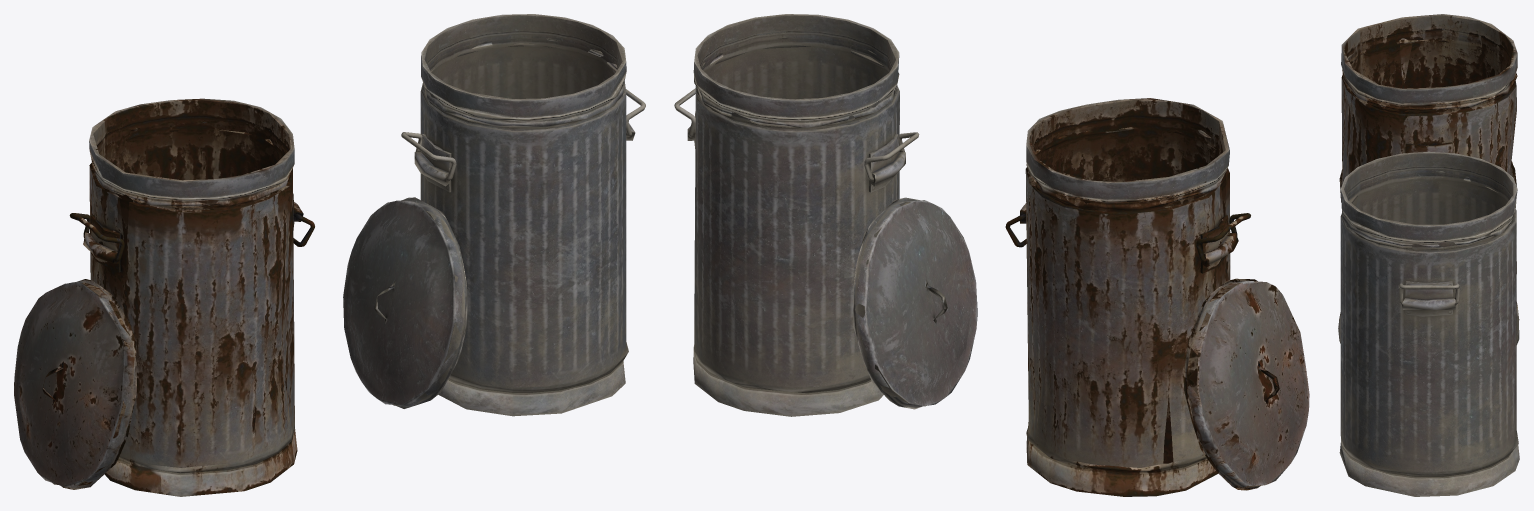
File: metal_trash_can.glb
3 views of the same model, side by side, from view 1: azimuth 30°, elevation 25°; view 2: azimuth 150°, elevation 25°; view 3: azimuth 270°, elevation 25° (orthographic). The views are drawn at different scales.
Parts seen in each view (by area): view 1: metal_trash_can, metal_trash_can_rust, metal_trash_can_lid, metal_trash_can_rust_lid; view 2: metal_trash_can, metal_trash_can_rust, metal_trash_can_lid, metal_trash_can_rust_lid; view 3: metal_trash_can, metal_trash_can_rust, metal_trash_can_handle_right.
Boxes of the visible parts, <box> form: metal_trash_can: <box>414,14,635,416</box>; metal_trash_can_rust: <box>83,98,303,496</box>; metal_trash_can_lid: <box>343,197,467,408</box>; metal_trash_can_rust_lid: <box>14,279,136,489</box>; metal_trash_can: <box>687,14,905,416</box>; metal_trash_can_rust: <box>1020,98,1238,496</box>; metal_trash_can_lid: <box>853,197,977,409</box>; metal_trash_can_rust_lid: <box>1183,278,1309,490</box>; metal_trash_can: <box>1339,151,1519,496</box>; metal_trash_can_rust: <box>1339,14,1519,319</box>; metal_trash_can_handle_right: <box>1398,283,1459,304</box>.
Bounding box in the file's own units: 1.78 × 0.9062 × 0.5528.
3 materials, 3 textured.
